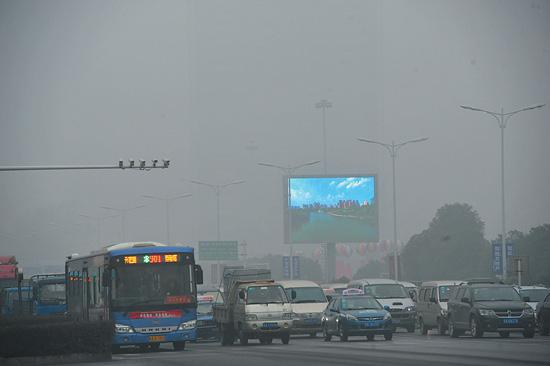bus: (65, 241, 204, 351), (28, 272, 91, 324), (1, 279, 45, 332), (1, 255, 24, 290)
car: (212, 265, 296, 346), (447, 280, 535, 339), (257, 280, 329, 337), (320, 288, 394, 342), (346, 278, 416, 332), (415, 279, 473, 336), (184, 285, 228, 340), (507, 284, 550, 320), (387, 281, 423, 324), (318, 283, 356, 316), (535, 294, 550, 336)
